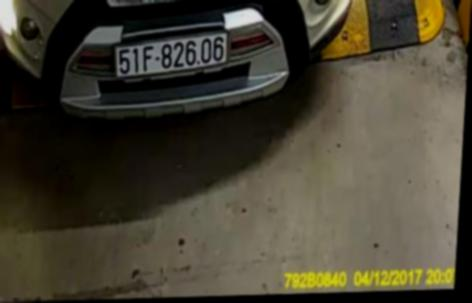License_Plate: (113, 33, 231, 78)
